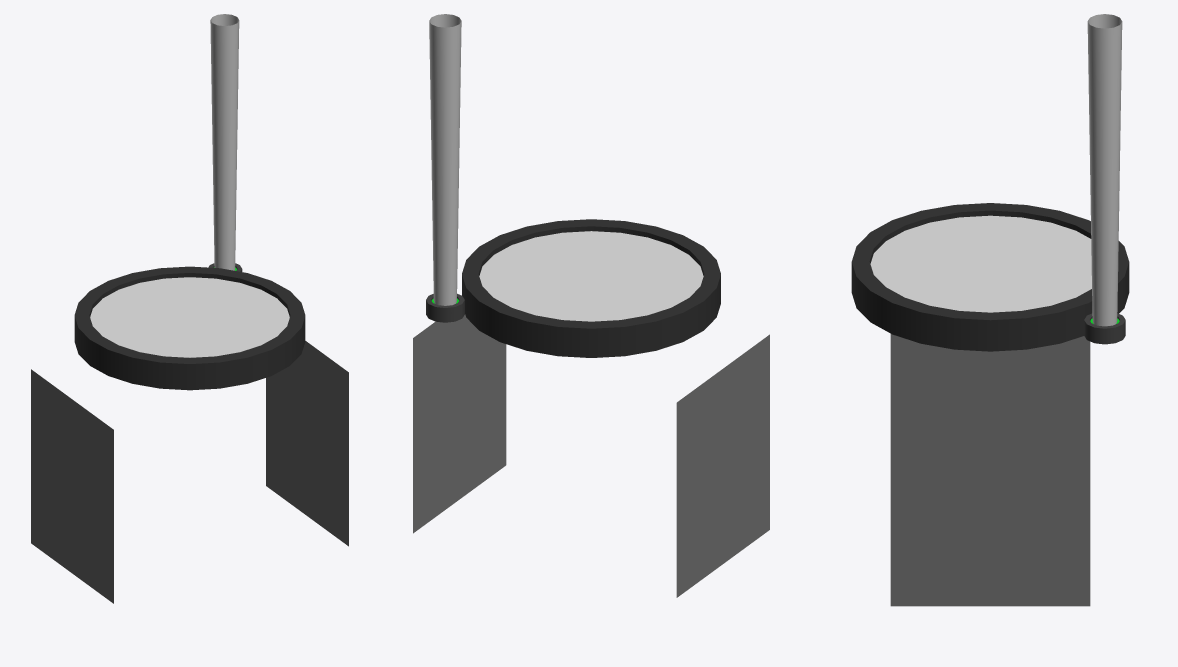
The model's file is Leg_SJCK_1X1_on.FBX.
3 views of the same model, side by side, from view 1: azimuth 30°, elevation 25°; view 2: azimuth 150°, elevation 25°; view 3: azimuth 270°, elevation 25° (orthographic). The views are drawn at different scales.
Visible parts, largest first — view 1: 1; view 2: 1; view 3: 1.
Part boxes in pixels (<box>): 1: <box>31,14,348,603</box>; 1: <box>413,14,769,597</box>; 1: <box>851,14,1129,606</box>.
Bounding box in the file's own units: 1 × 2 × 1.
